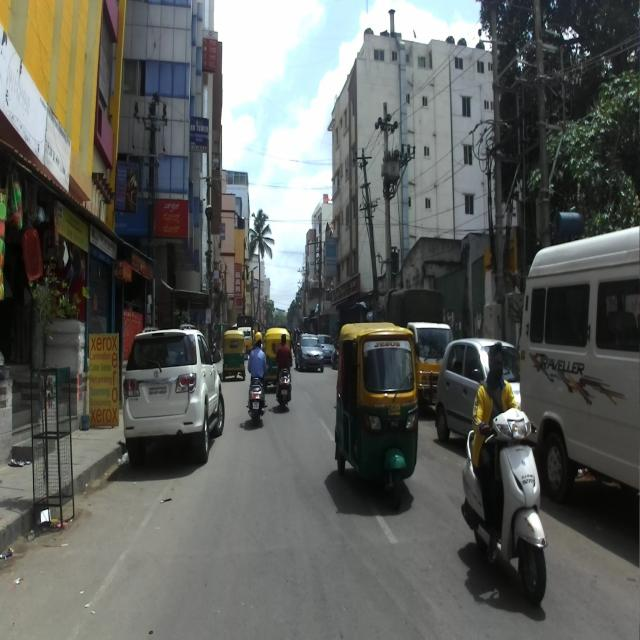Car_Hyundai: (434, 337, 521, 442)
Car_Toyota: (122, 322, 225, 470)
autorickshaw: (334, 322, 420, 511)
mini-bus: (519, 226, 640, 504)
scooter: (460, 407, 548, 606)
